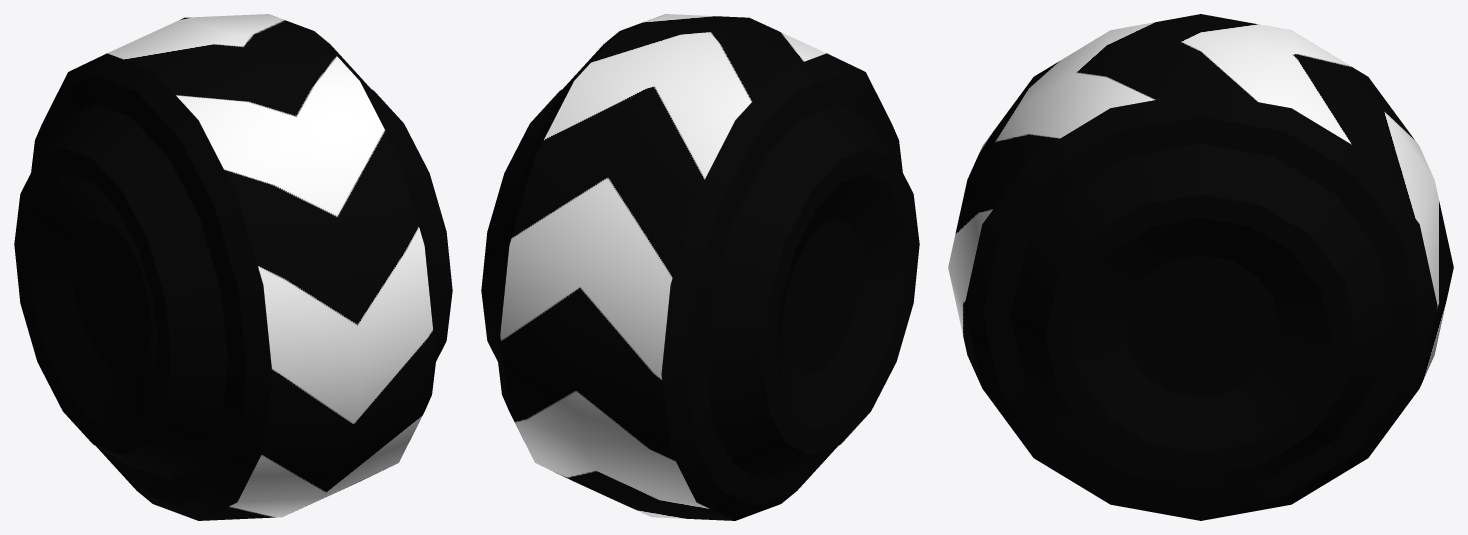
The model's file is RollingEnemy.fbx.
3 renders of one model, left to right at view 1: azimuth 30°, elevation 25°; view 2: azimuth 150°, elevation 25°; view 3: azimuth 270°, elevation 25°, orthographic.
Visible parts, largest first — view 1: RollingEnemy; view 2: RollingEnemy; view 3: RollingEnemy.
Boxes of the visible parts, <box> form: RollingEnemy: <box>14,14,452,520</box>; RollingEnemy: <box>481,14,919,520</box>; RollingEnemy: <box>948,14,1453,520</box>.
Bounding box in the file's own units: 127 × 200 × 200.
2 materials, 1 textured.
